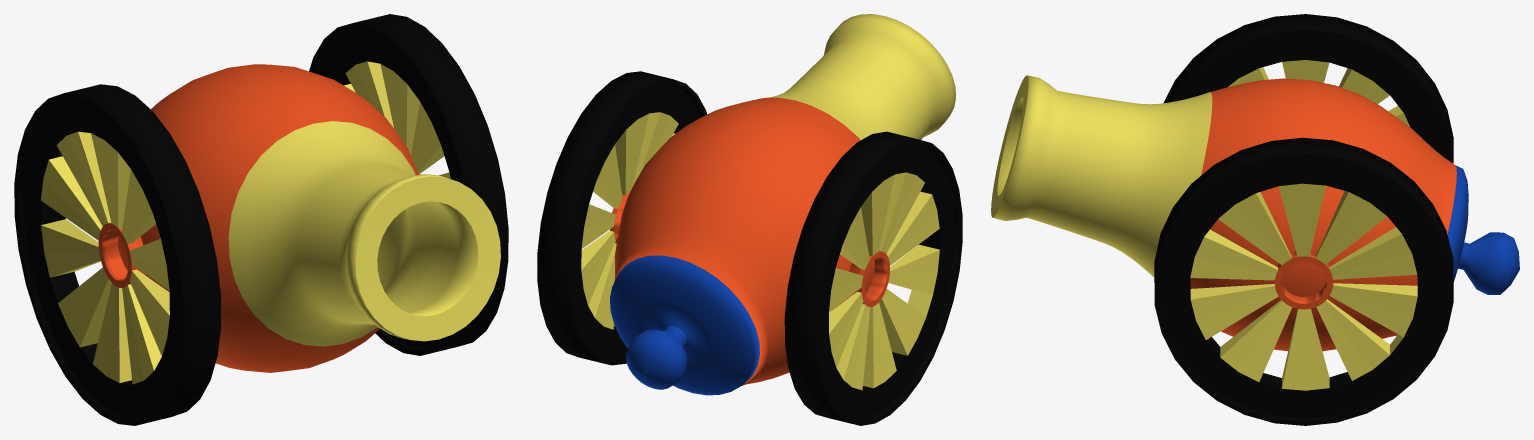
The model's file is Cannon.fbx.
3 views of the same model, side by side, from view 1: azimuth 30°, elevation 25°; view 2: azimuth 150°, elevation 25°; view 3: azimuth 270°, elevation 25° (orthographic). The views are drawn at different scales.
Parts seen in each view (by area): view 1: Cannon; view 2: Cannon; view 3: Cannon.
Part boxes in pixels (left/top/right/bottom): Cannon: left=14, top=14, right=508, bottom=425; Cannon: left=537, top=14, right=962, bottom=425; Cannon: left=991, top=14, right=1519, bottom=425.
Bounding box in the file's own units: 248 × 227 × 397.
